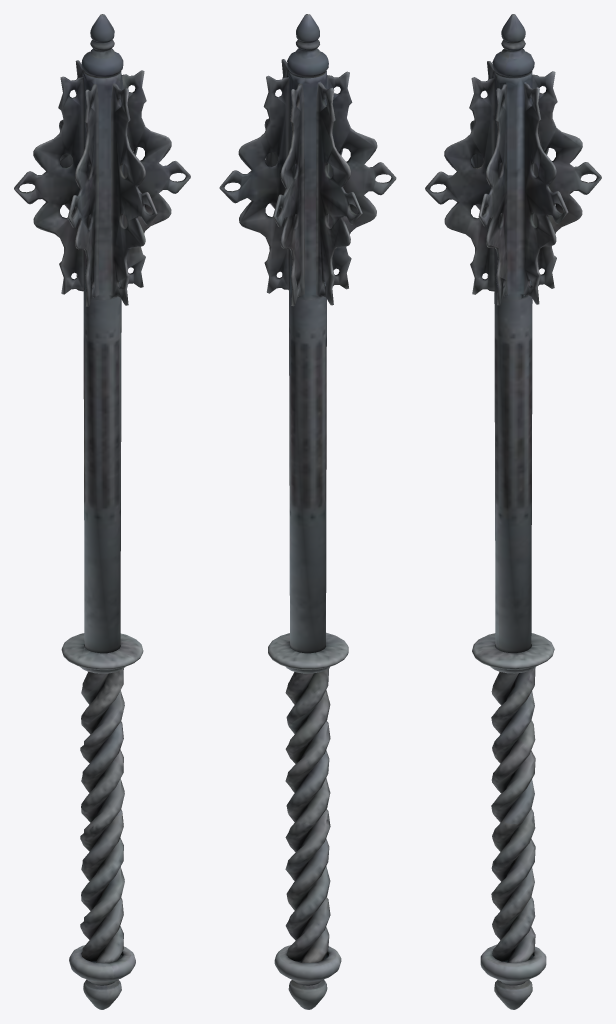
The model's file is ornate_medieval_mace.glb.
3 renders of one model, left to right at view 1: azimuth 30°, elevation 25°; view 2: azimuth 150°, elevation 25°; view 3: azimuth 270°, elevation 25°, orthographic.
Visible parts, largest first — view 1: ornate_medieval_mace; view 2: ornate_medieval_mace; view 3: ornate_medieval_mace.
Boxes of the visible parts, box(x1,y1,x2,y2) form: ornate_medieval_mace: box(14, 14, 190, 1009); ornate_medieval_mace: box(219, 14, 396, 1009); ornate_medieval_mace: box(425, 14, 601, 1009).
Bounding box in the file's own units: 0.0949 × 0.6299 × 0.1015.
Materials: 1 (1 with a texture image).
